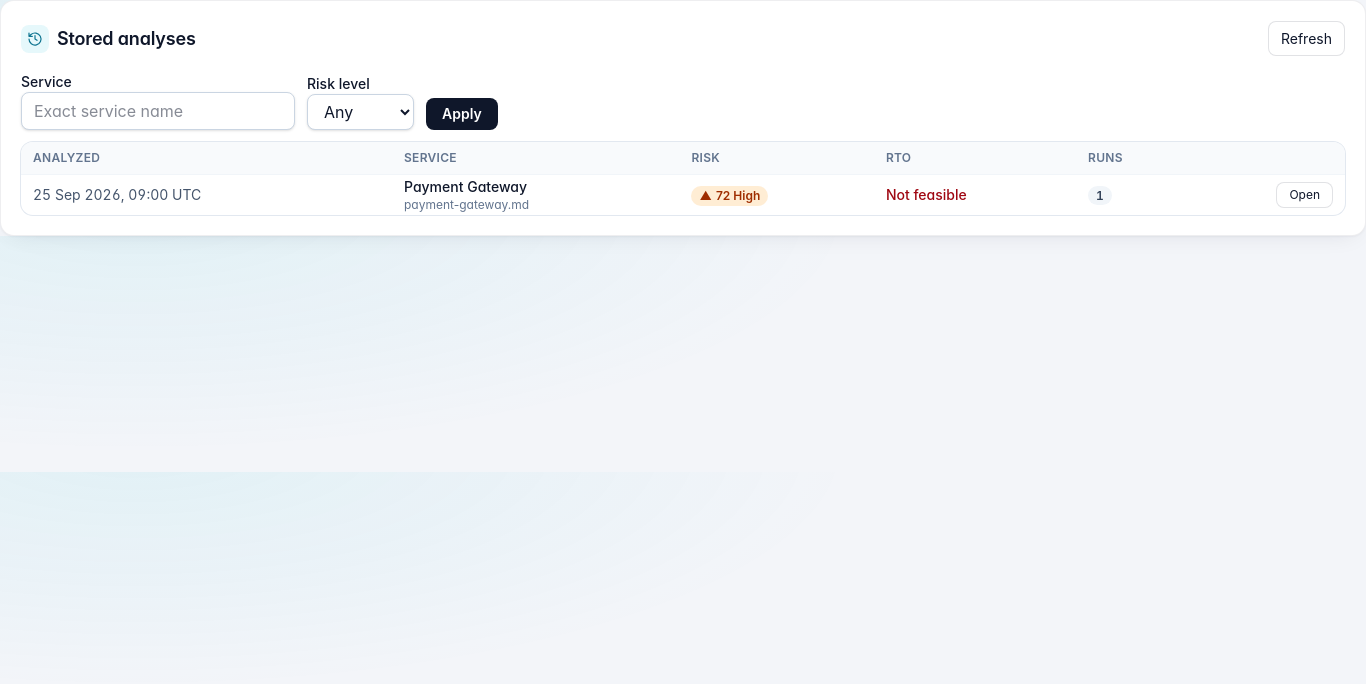
Scenario: HistoryView › warns about stale analyses and shows load errors
Click the button with aria-label "Open Payment Gateway analysis from 25 Sep 2026, 09:00 UTC": coordinates (1305, 195) [1276,182,1333,208]
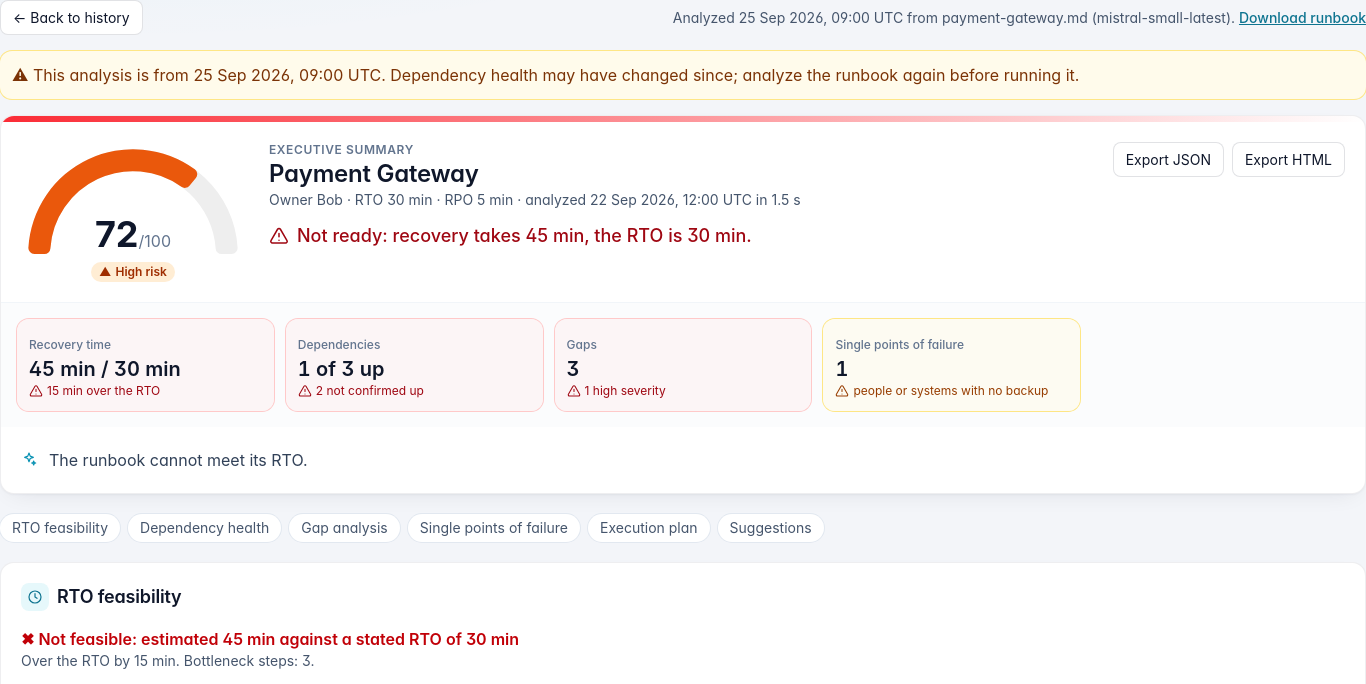
Result: the text "Dependency health may have changed" is shown at [381,65,1079,85]
Click the button "← Back to history": coordinates (71, 18) [0,0,143,35]
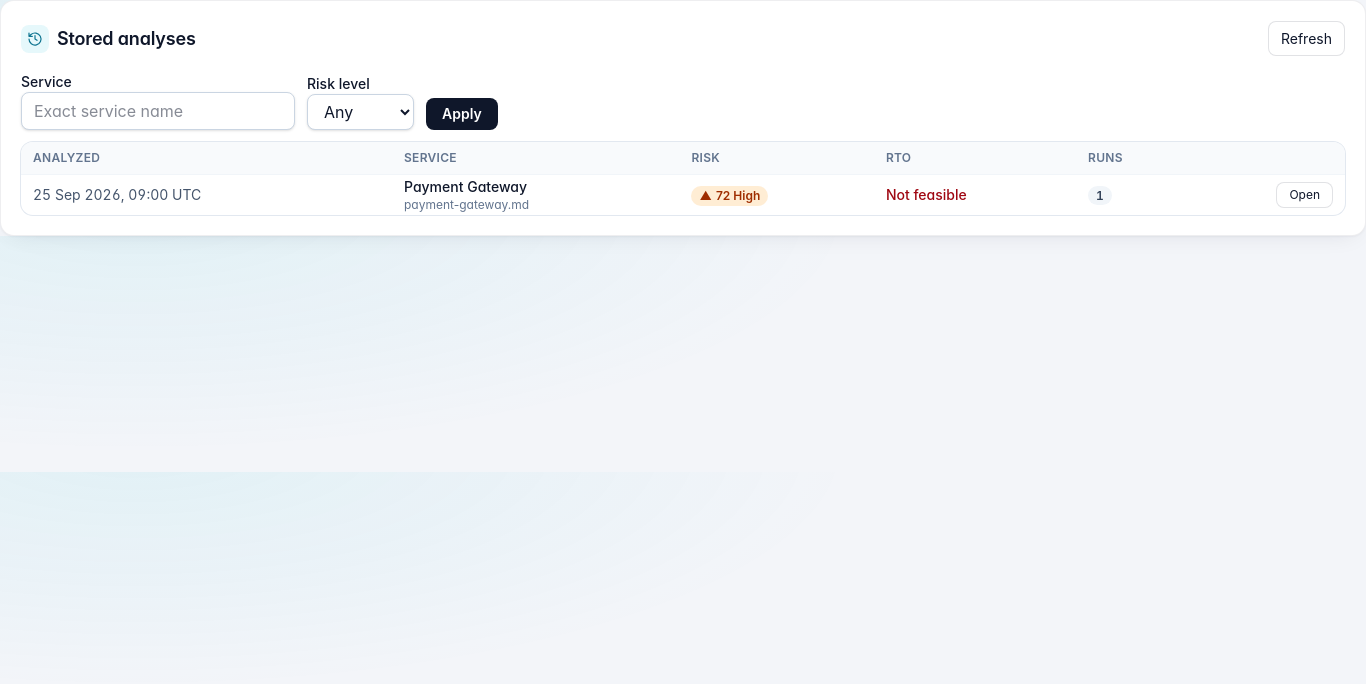
Click the button with aria-label "Open Payment Gateway analysis from 25 Sep 2026, 09:00 UTC": coordinates (1305, 195) [1276,182,1333,208]
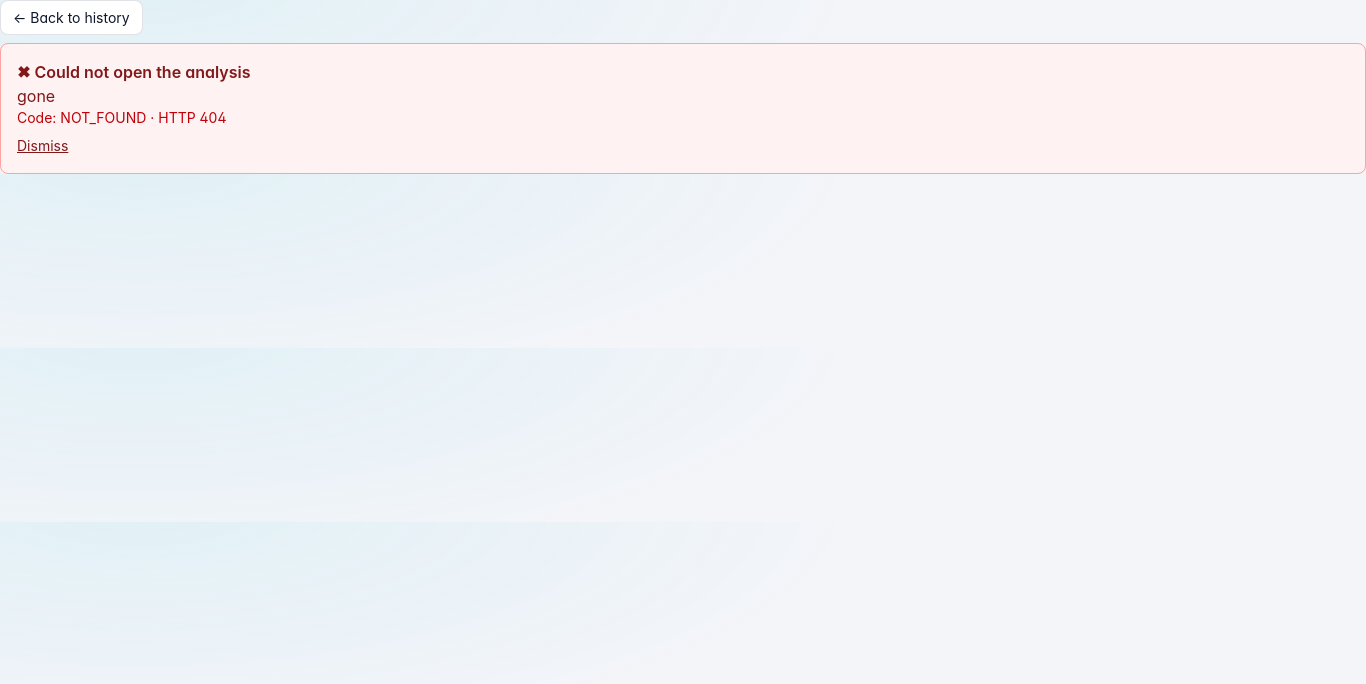
Result: the message shows "Could not open the analysis" at [34,62,250,82]
